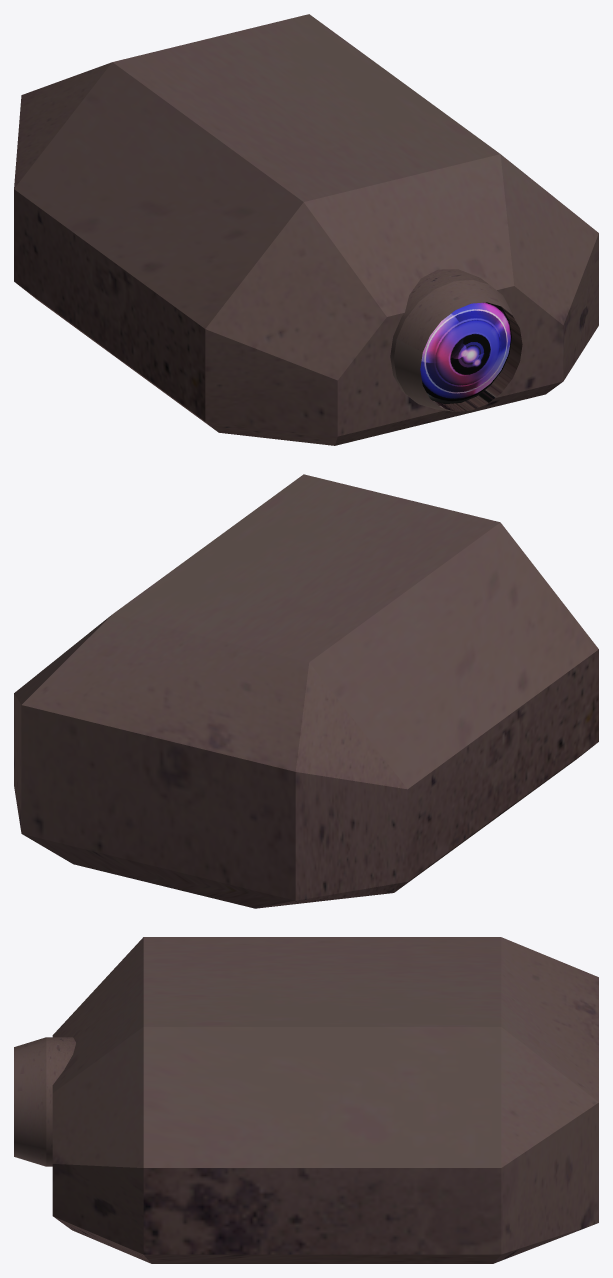
The model's file is CamBot_E01.obj.
3 renders of one model, top to bottom at view 1: azimuth 30°, elevation 25°; view 2: azimuth 150°, elevation 25°; view 3: azimuth 270°, elevation 25°, orthographic. The views are drawn at different scales.
Parts seen in each view (by area): view 1: CamBot_E01:pCube2; view 2: CamBot_E01:pCube2; view 3: CamBot_E01:pCube2.
Boxes of the visible parts, x1,y1,x2,y2 form: CamBot_E01:pCube2: [14, 14, 598, 445]; CamBot_E01:pCube2: [14, 474, 598, 908]; CamBot_E01:pCube2: [14, 937, 598, 1263].
Size of the model in its own units: 6.78 by 3.52 by 9.32.
Materials: 1 (1 with a texture image).
